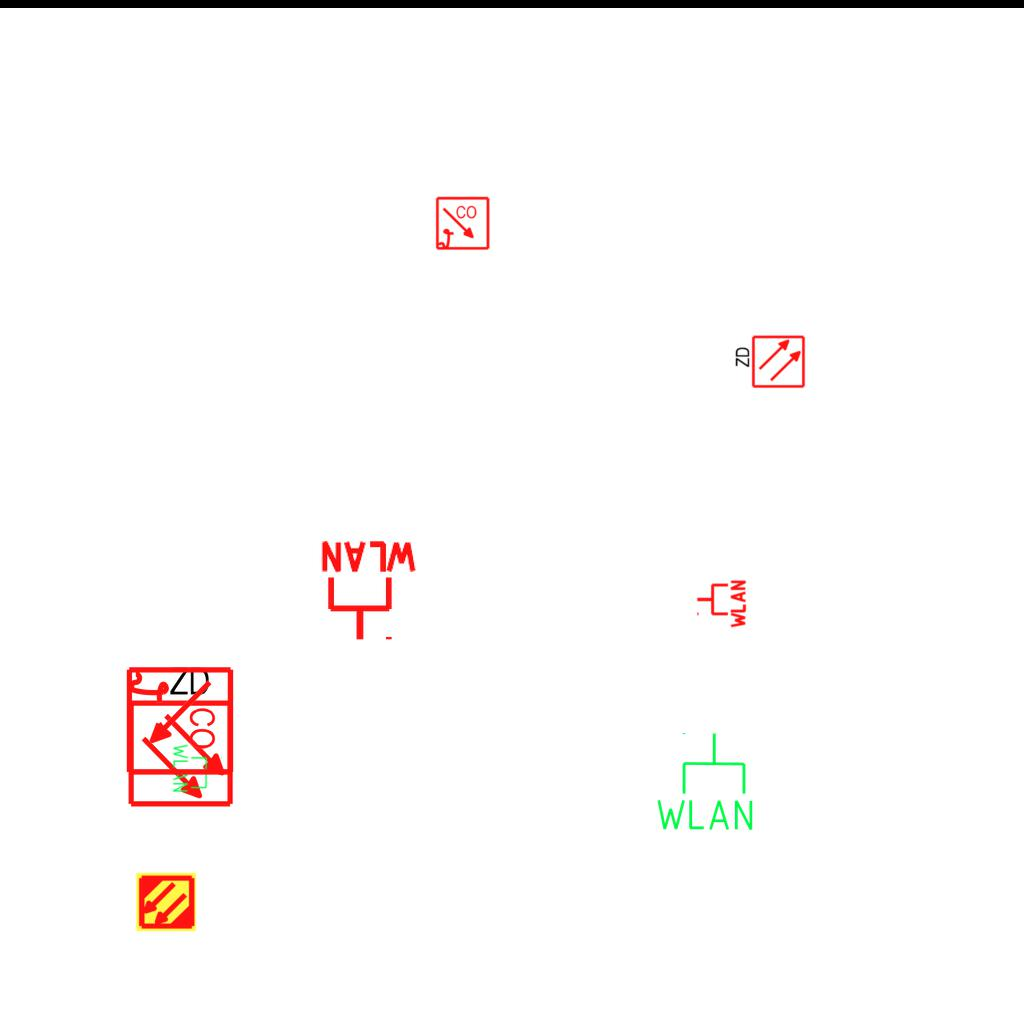ASR_Ansaugrauchmelder: (135, 871, 197, 933)
ROA_Rauchmelder_optisch_mit_Signalgeber_(Sockelsirene): (122, 665, 235, 778), (435, 196, 491, 252)
WLAN: (317, 539, 421, 644), (652, 730, 757, 834), (695, 578, 747, 630), (171, 742, 223, 794)
ZD_Melder_in_Zwischendecke_mit_Revisionsoeffnung_mind_40_x_40_cm: (122, 660, 236, 809), (732, 334, 806, 391)
